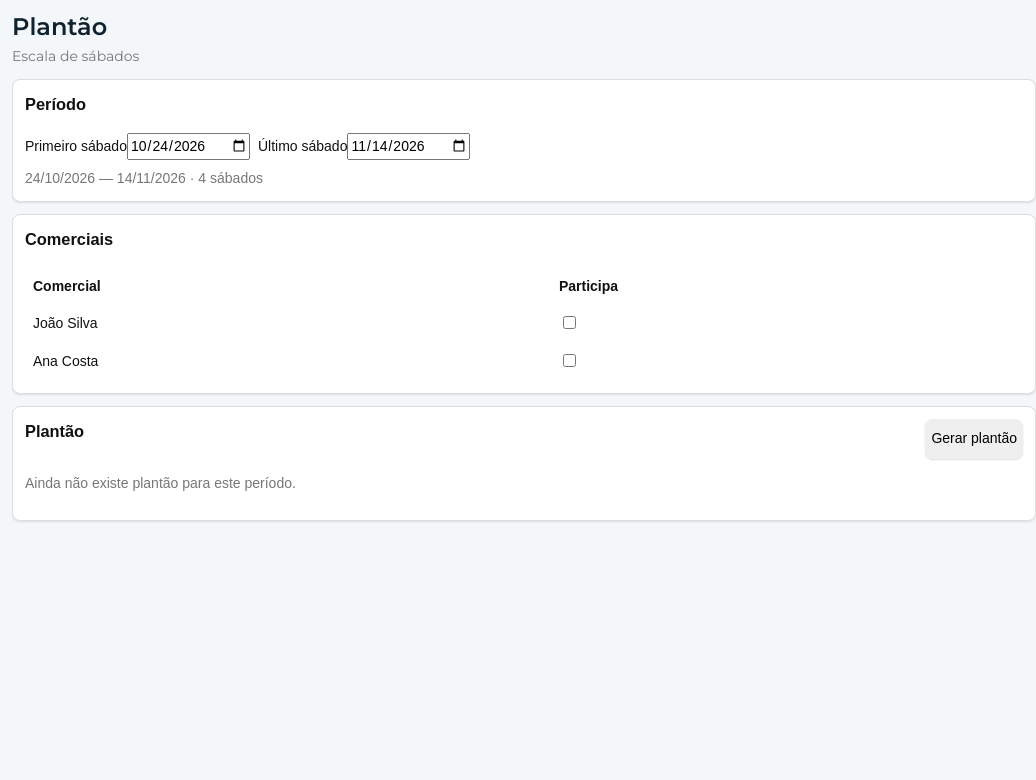
Plantoes › mantém participação local, gera plantões para o período selecionado e publica como read-only
The width and height of the screenshot is (1036, 780).
Expected: the text "João Silva" is shown, [25, 305, 551, 343]
Expected: the text "24/10/2026 — 14/11/2026 · 4 sábados" is shown, [25, 170, 263, 186]
Click the checkbox in the row of "João Silva": {"x": 569, "y": 322} [563, 316, 576, 329]
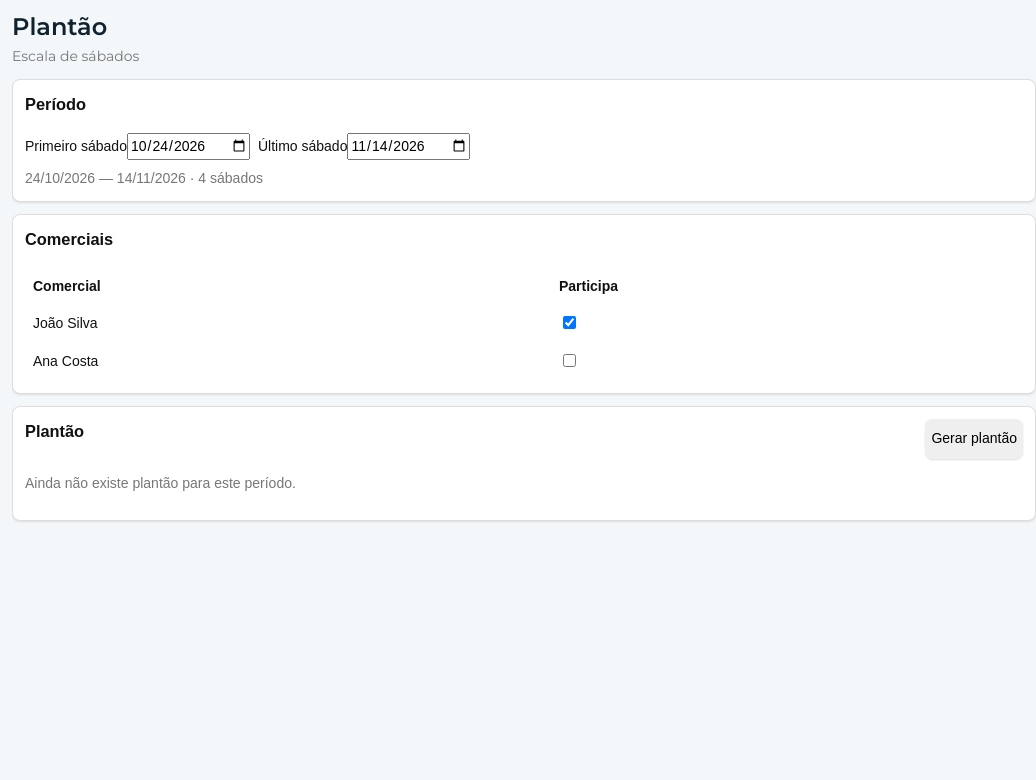
Result: the checkbox in the row of "João Silva" is checked at [563, 316, 576, 329]
Click the button "Gerar plantão": {"x": 974, "y": 439} [925, 419, 1023, 459]
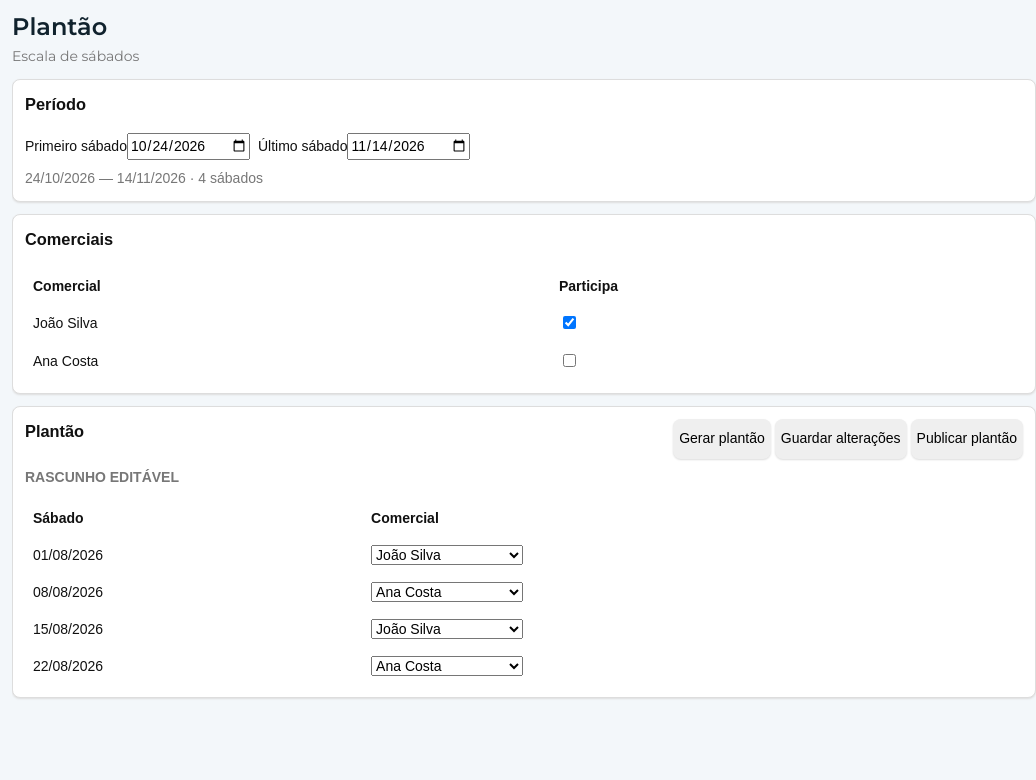
Expected: the text "João Silva" is shown, [25, 305, 551, 343]
Result: the text "RASCUNHO EDITÁVEL" is shown at [25, 469, 179, 485]
